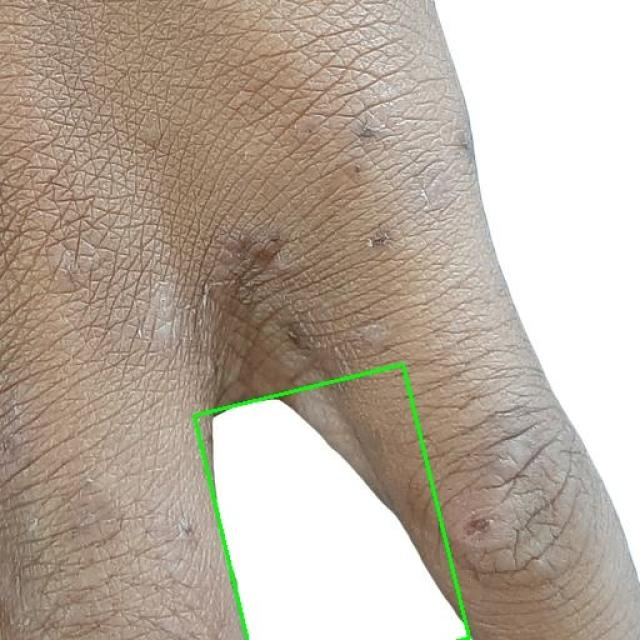Scabies: (194, 365, 469, 640)
